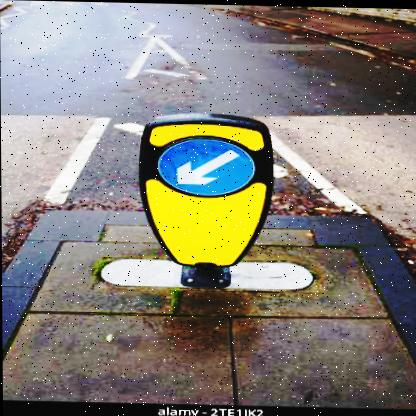Keep left: (147, 130, 259, 199)
